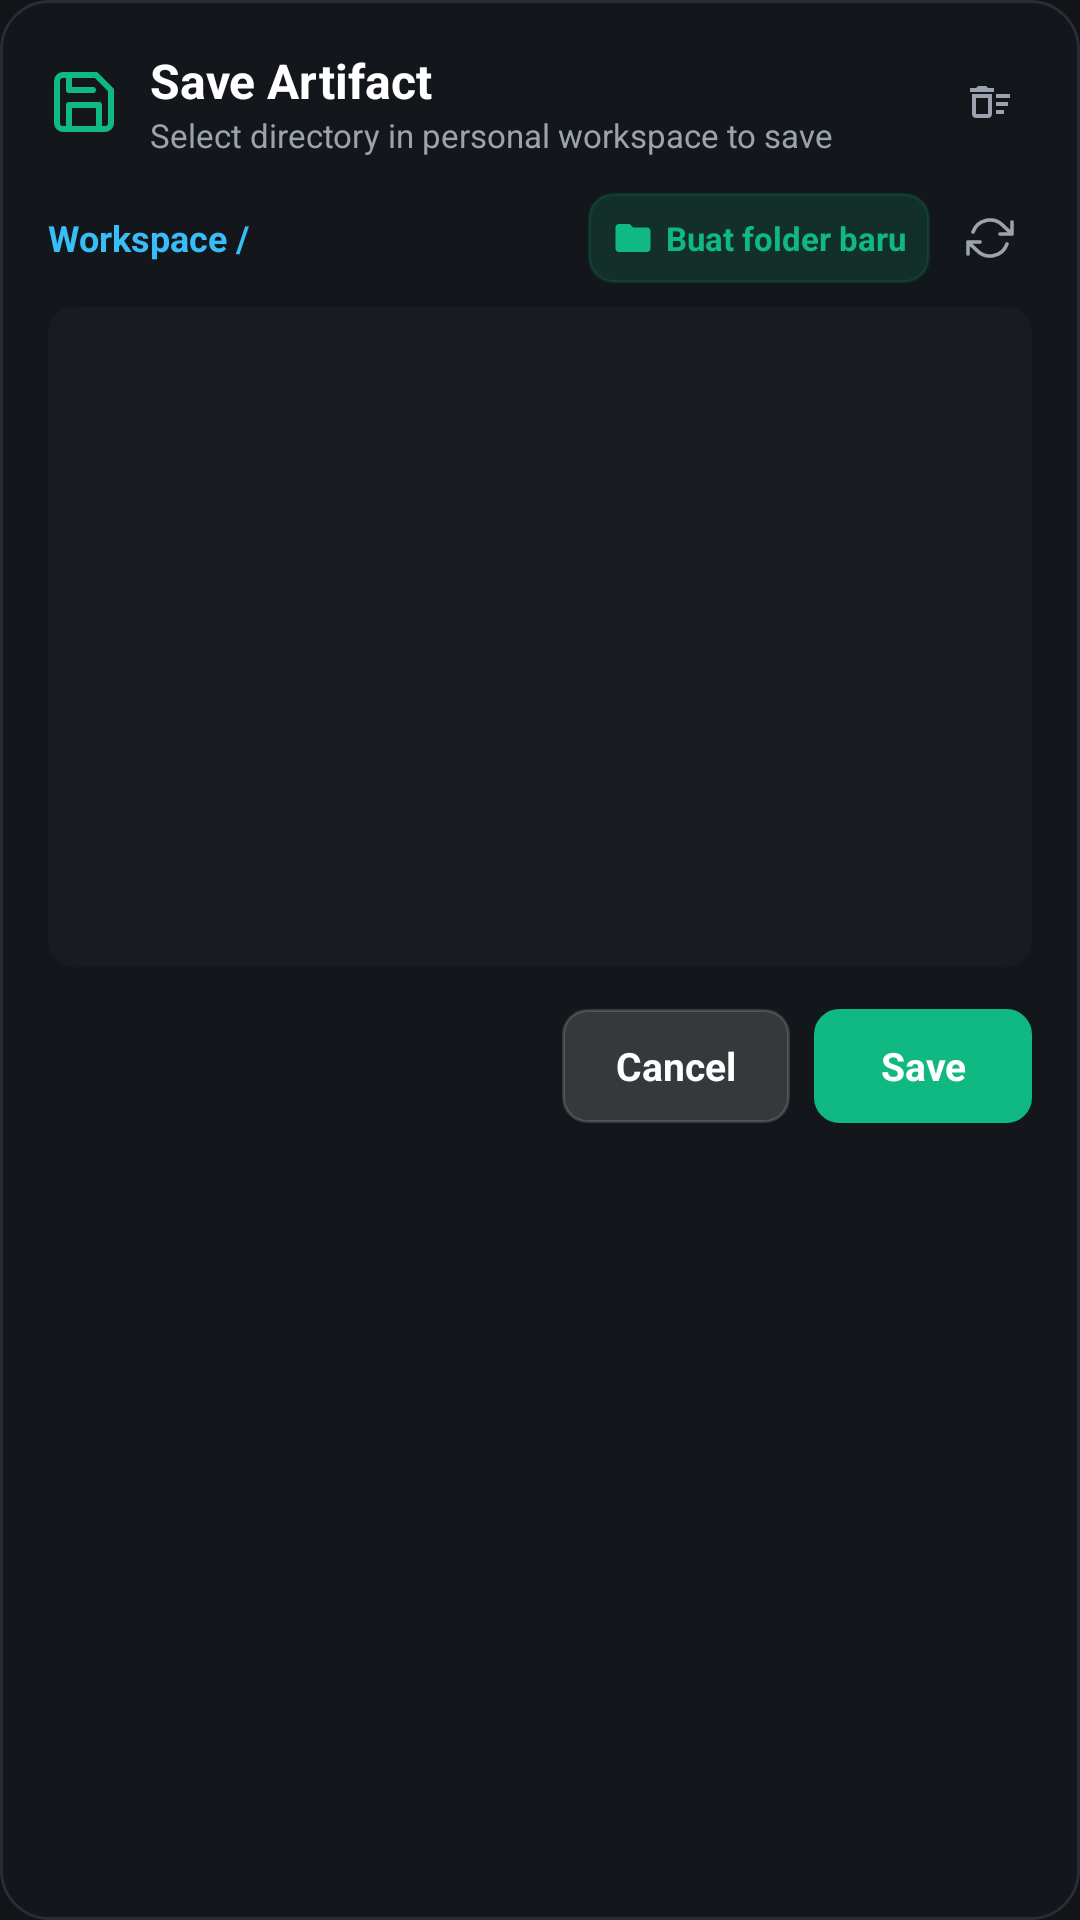

Screen size 1080×1920. Icon name, then its center in pixels as [x,y]:
Refresh: [990,238]
